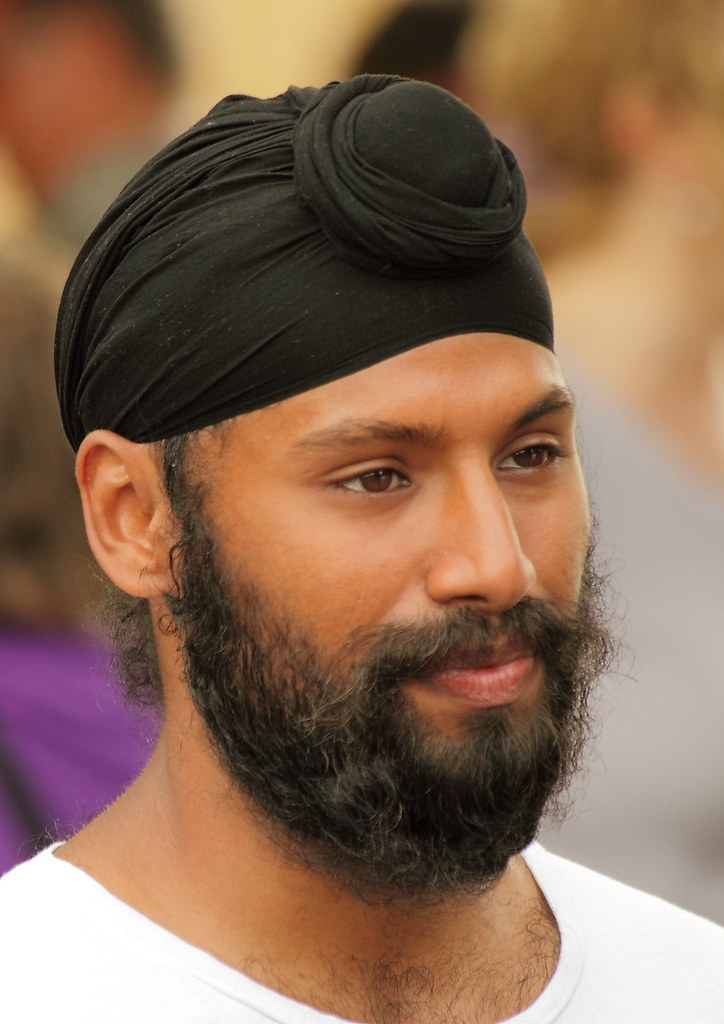without_mask: (54, 299, 632, 892)
